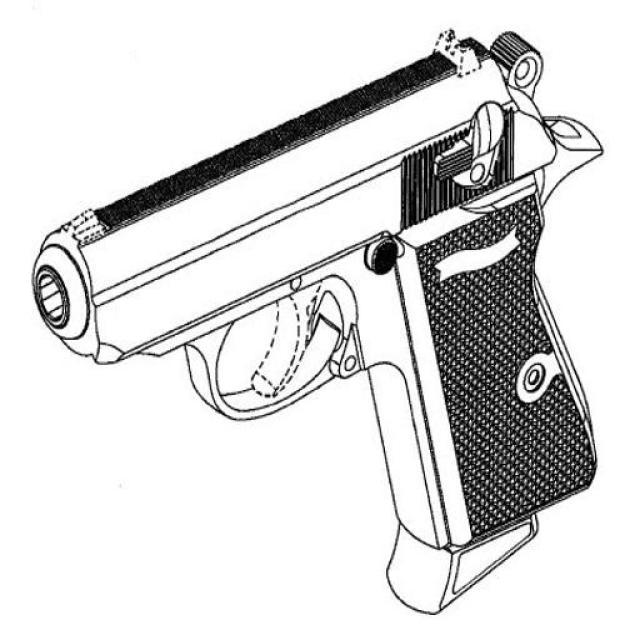pistol: (35, 27, 612, 610)
